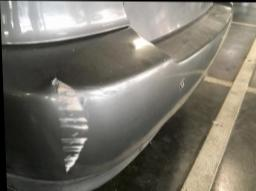Bumper: (23, 44, 145, 183)
